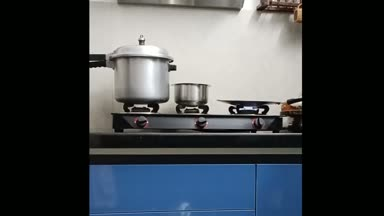flame_gas_off: (125, 103, 155, 128), (177, 105, 209, 128)
flame_gas_on: (235, 105, 267, 130)
